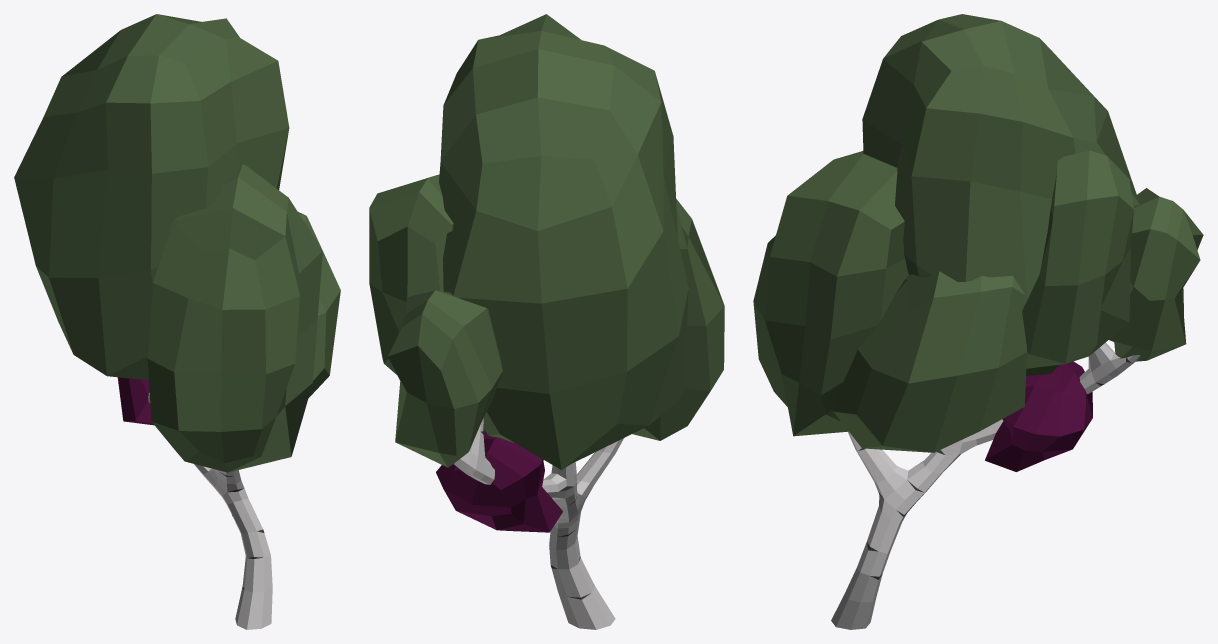
The model's file is BirchTree1.fbx.
The picture shows the model from 3 angles, left to right: view 1: azimuth 30°, elevation 25°; view 2: azimuth 150°, elevation 25°; view 3: azimuth 270°, elevation 25°; orthographic projection. The views are drawn at different scales.
Visible parts, largest first — view 1: Leaves, Wood; view 2: Leaves, Wood; view 3: Leaves, Wood.
Boxes of the visible parts, x1=… form: Leaves: x1=14, y1=14, x2=340, y2=472; Wood: x1=148, y1=393, x2=272, y2=629; Leaves: x1=369, y1=14, x2=724, y2=532; Wood: x1=454, y1=418, x2=623, y2=629; Leaves: x1=753, y1=14, x2=1203, y2=471; Wood: x1=831, y1=342, x2=1140, y2=629.
Size of the model in its own units: 170 by 357 by 248.
